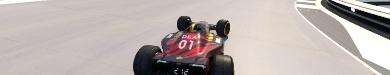Car: (132, 16, 234, 74)
Solid White and black: (293, 0, 389, 74)
